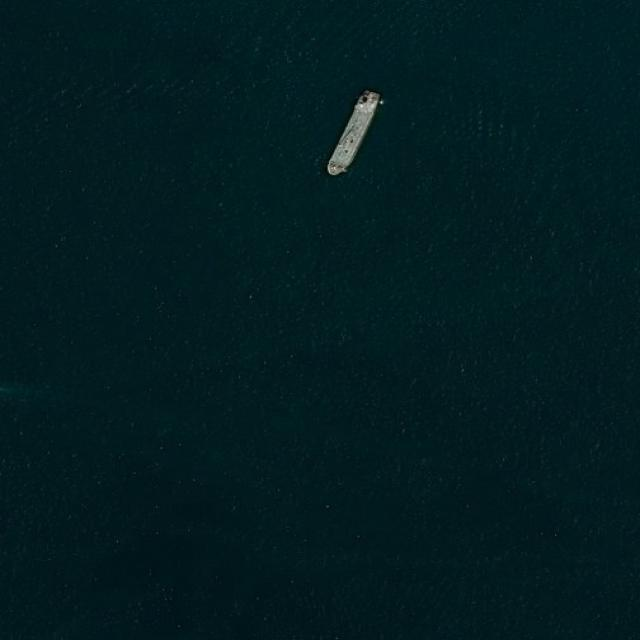Cargo: (323, 88, 385, 180)
